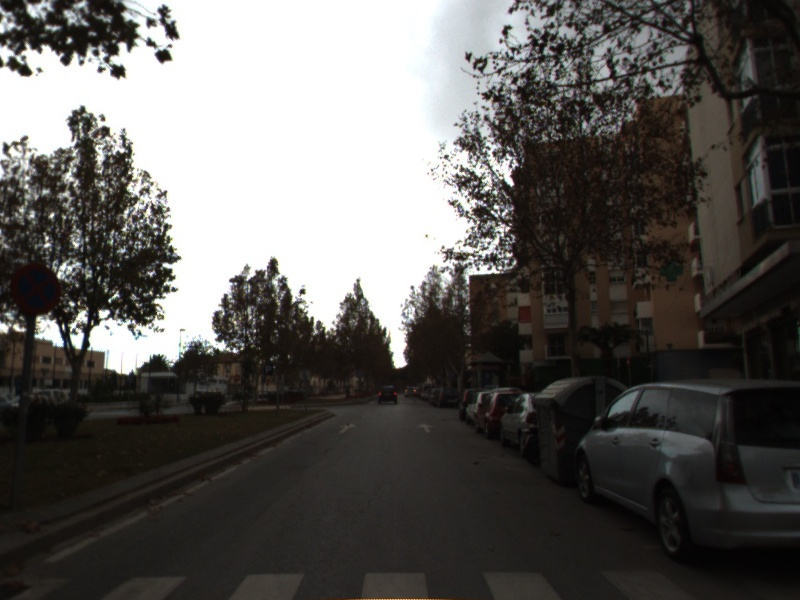STRAIGHT: (336, 422, 359, 435), (415, 421, 437, 434)
